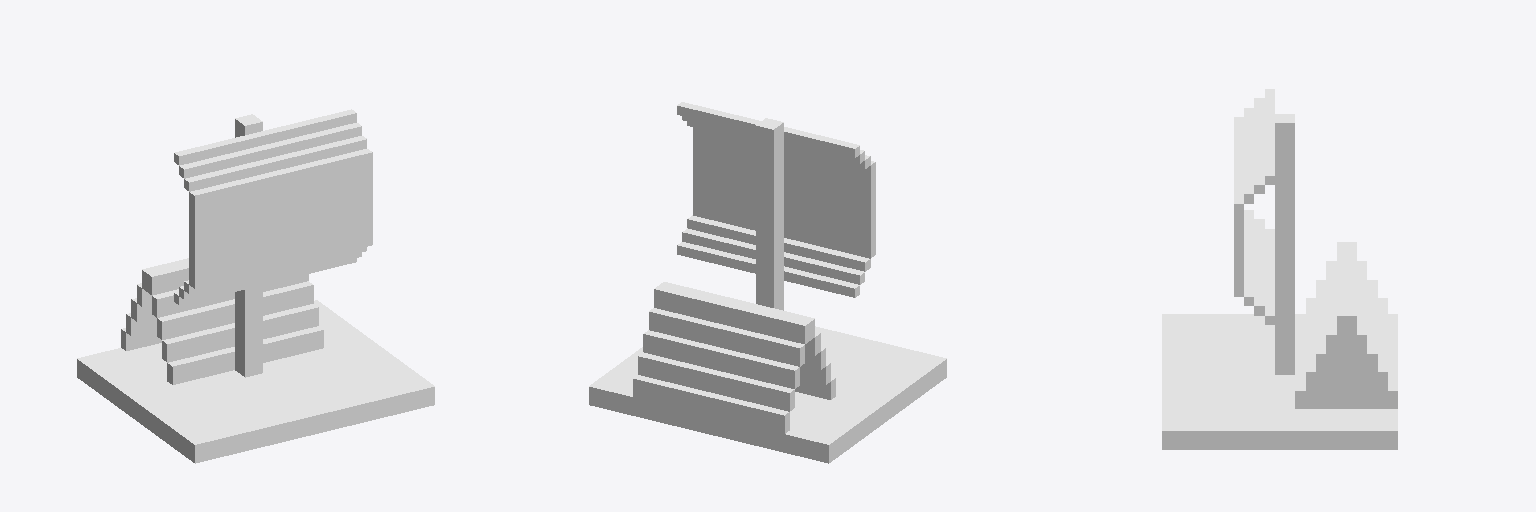
Rendered from deco_boat.obj.
The picture shows the model from 3 angles: view 1: azimuth 30°, elevation 25°; view 2: azimuth 150°, elevation 25°; view 3: azimuth 270°, elevation 25°; orthographic projection.
Parts seen in each view (by area): view 1: deco_boat; view 2: deco_boat; view 3: deco_boat.
Part boxes in pixels (x1,y1,x2,y2): deco_boat: (77, 109, 434, 463); deco_boat: (589, 102, 946, 463); deco_boat: (1162, 89, 1397, 449).
Size of the model in its own units: 27 by 29 by 23.